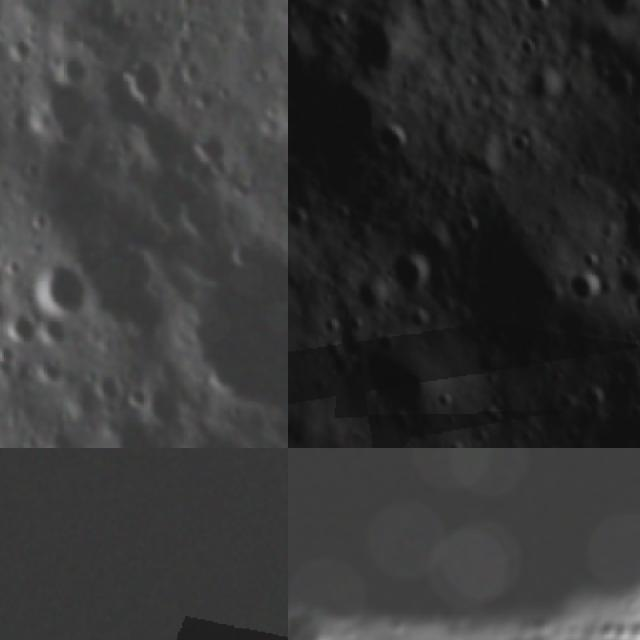crater: (423, 206, 597, 380), (176, 244, 288, 413), (288, 47, 395, 176), (352, 330, 448, 428), (331, 0, 419, 83), (28, 250, 96, 324), (26, 77, 96, 148), (372, 238, 436, 303), (397, 208, 461, 273), (593, 183, 640, 266), (554, 254, 614, 314), (364, 109, 420, 165), (122, 49, 170, 113), (343, 269, 394, 320), (288, 11, 319, 88), (169, 427, 271, 448), (577, 0, 640, 33), (288, 601, 339, 640), (572, 378, 612, 418), (89, 368, 123, 409), (7, 310, 40, 352), (288, 199, 315, 238), (0, 234, 13, 299), (516, 0, 560, 19), (0, 337, 25, 368), (623, 284, 640, 329), (528, 436, 569, 448)
